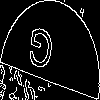G: (25, 24, 55, 80)
